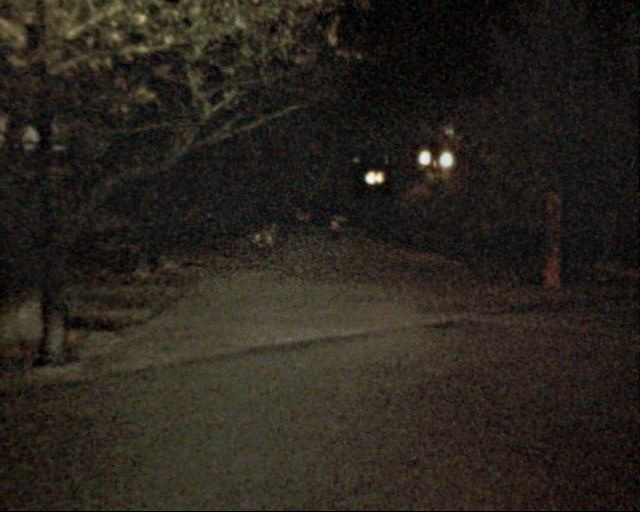person: (325, 216, 343, 260)
